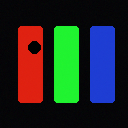2 circle: (28, 41, 40, 53)
